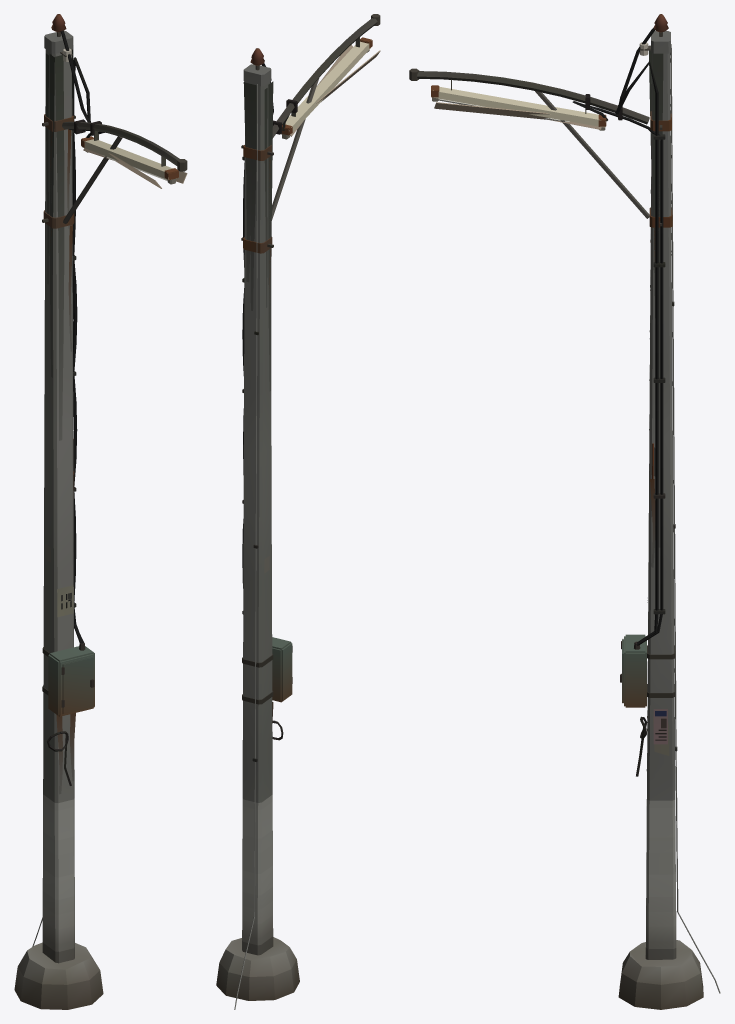
The model's file is lamp_rcc_v2_b.glb.
The picture shows the model from 3 angles, left to right: view 1: azimuth 30°, elevation 25°; view 2: azimuth 150°, elevation 25°; view 3: azimuth 270°, elevation 25°; orthographic projection. The views are drawn at different scales.
Visible parts, largest first — view 1: hb_main, hb_tin; view 2: hb_main, hb_tin; view 3: hb_main, hb_tin.
Boxes of the visible parts, x1=… form: hb_main: x1=14, y1=30, x2=103, y2=1009; hb_tin: x1=32, y1=14, x2=187, y2=946; hb_main: x1=216, y1=64, x2=299, y2=1000; hb_tin: x1=234, y1=14, x2=380, y2=1009; hb_main: x1=618, y1=31, x2=703, y2=1009; hb_tin: x1=409, y1=14, x2=720, y2=993.
Size of the model in its own units: 0.5346 by 6.62 by 1.9.
